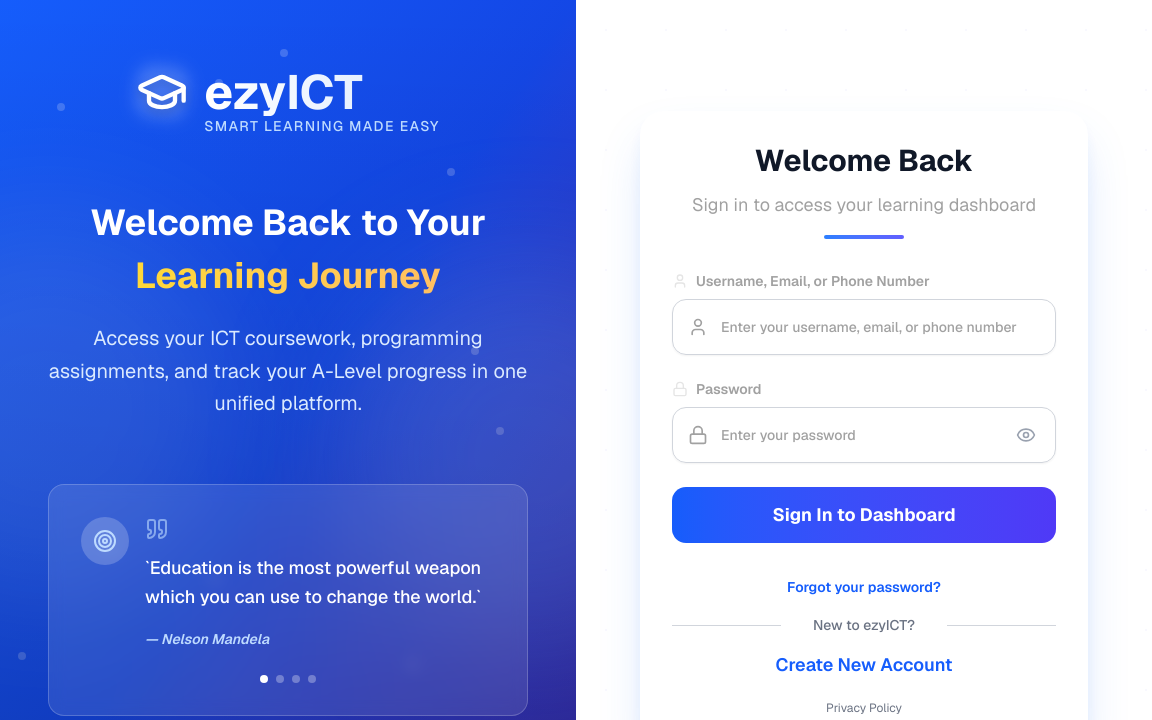
Test: LoginPage › shows error message for invalid credentials
The image size is (1152, 720).
Fill in the form with invalid credentials
Type "invaliduser" into the field labelled "Username, Email, or Phone Number" at (864, 327), box [672,299,1056,355]
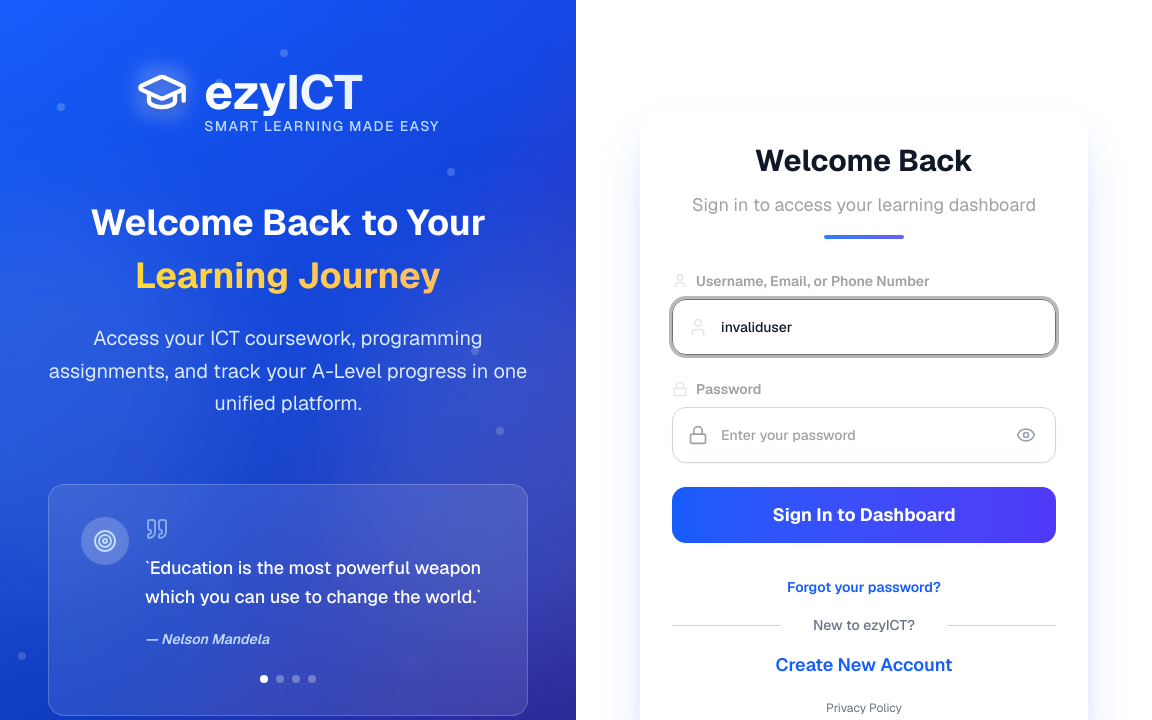
Type "wrongpassword" into the password field labelled "Password" at (864, 435), box [672,407,1056,463]
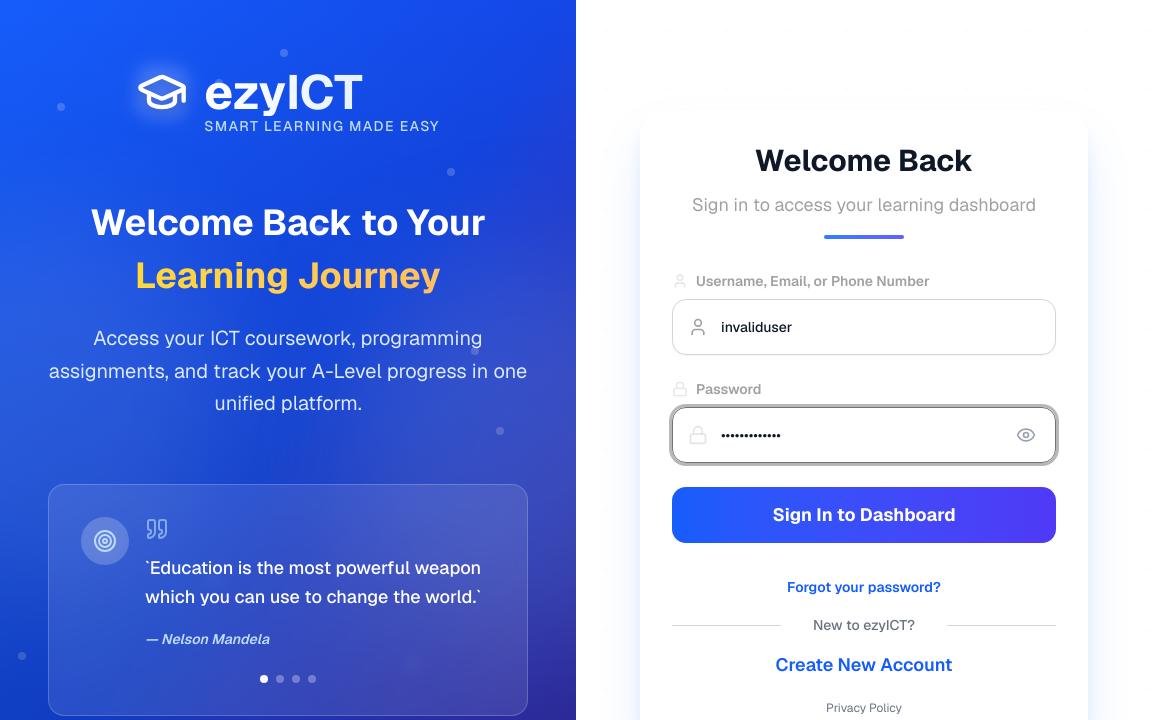
Submit the form
Click the button "Sign In to Dashboard" at (864, 515), box [672,487,1056,543]
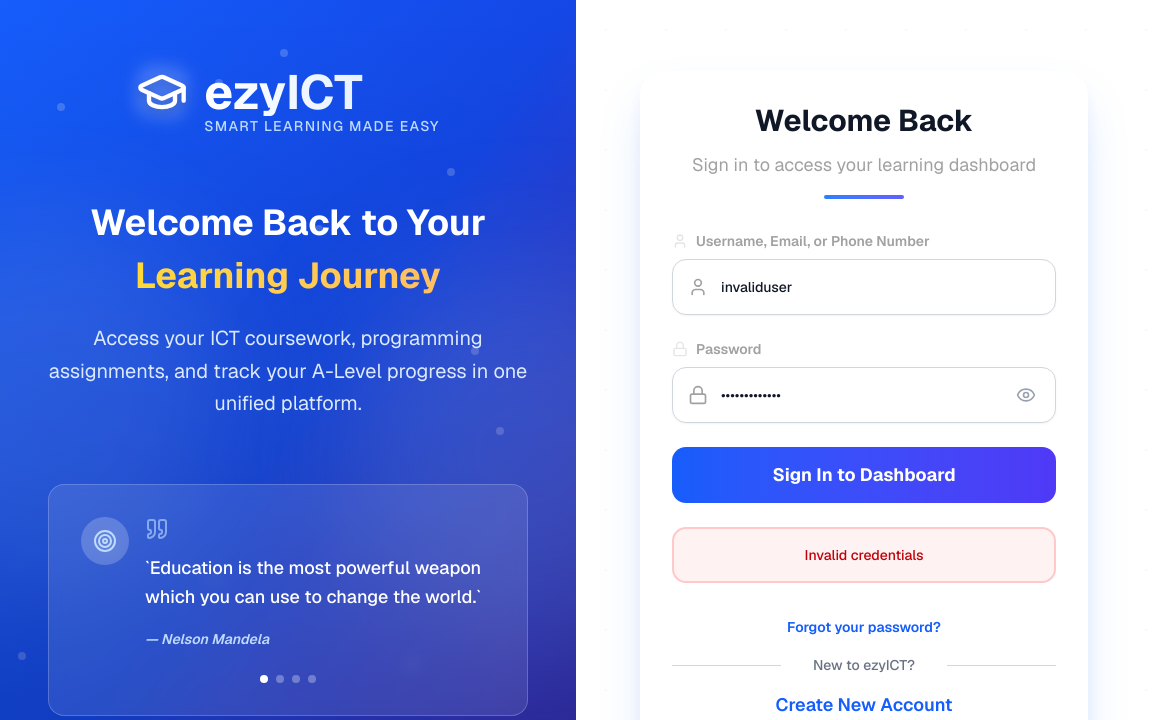
Check: the text "Invalid credentials" is shown, box [672,527,1056,583]
